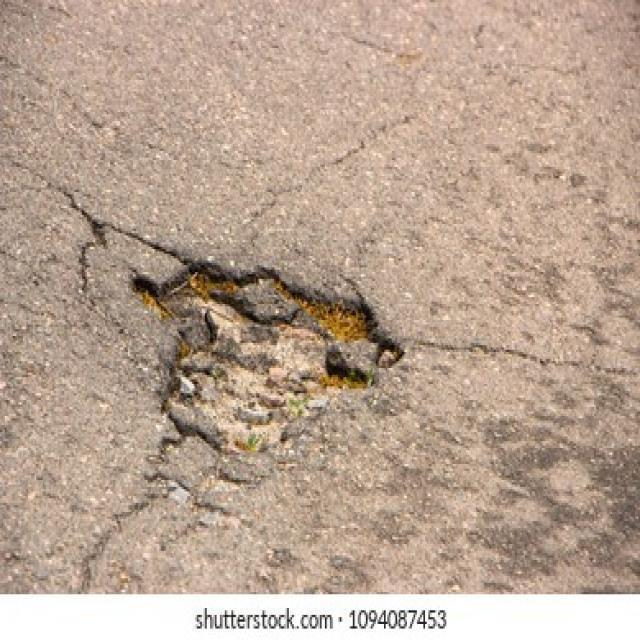pothole: (127, 254, 406, 474)
